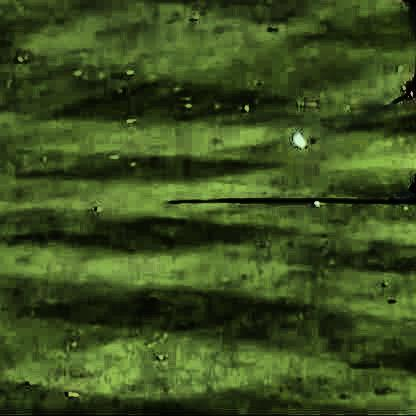golfball: (310, 194, 317, 204)
